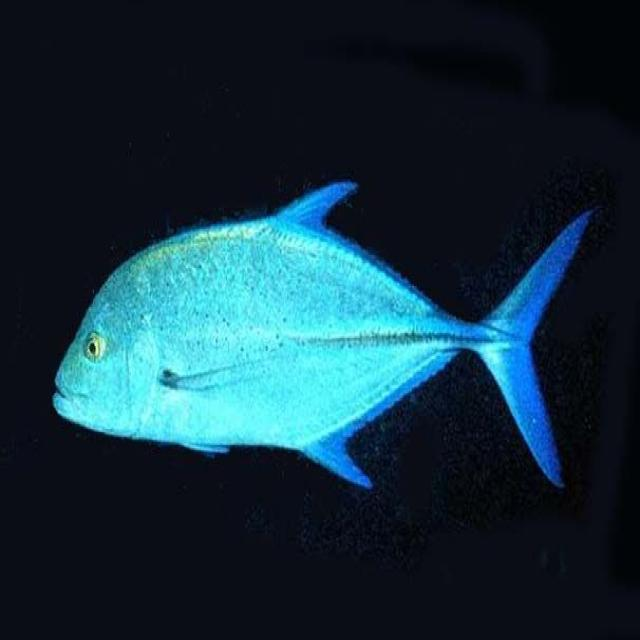ikan: (40, 141, 609, 524)
